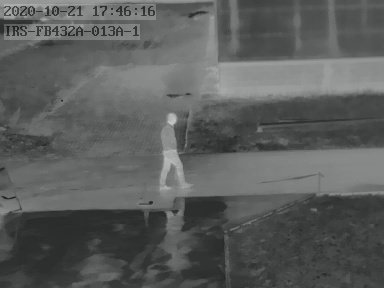person: (158, 111, 193, 190)
